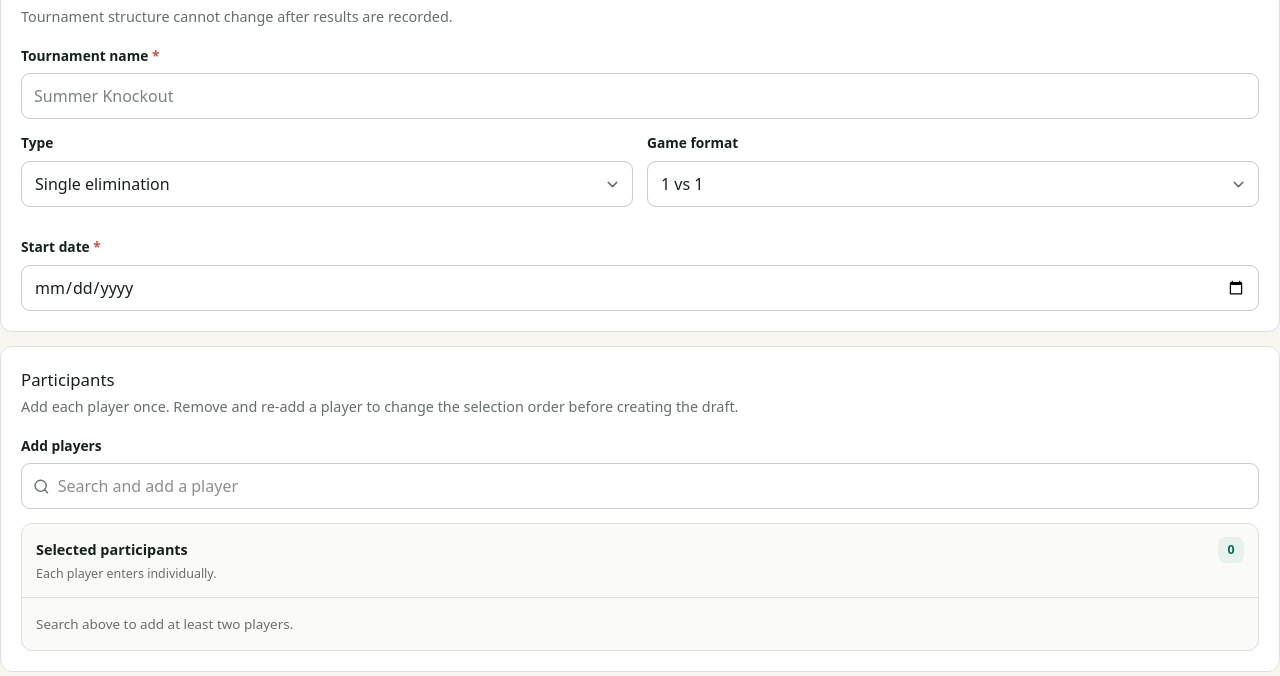
it: TournamentFormatEntries › shows only the rules that apply to the selected tournament type
Expected: the field labelled "Win points" is not shown
Click the dropdown named "Type" at (102, 184), box top-left (21, 161), bottom-right (633, 207)
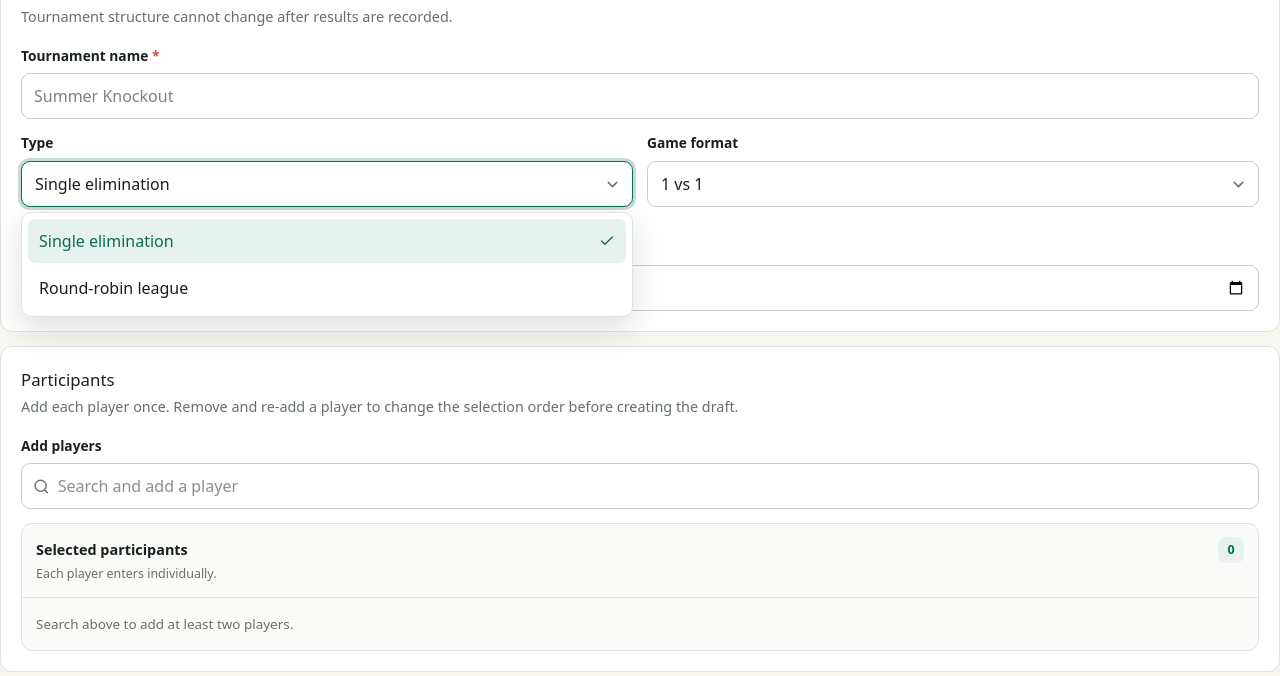
Click the option "Round-robin league" at (114, 288), box top-left (28, 266), bottom-right (626, 310)
(page scrolled)
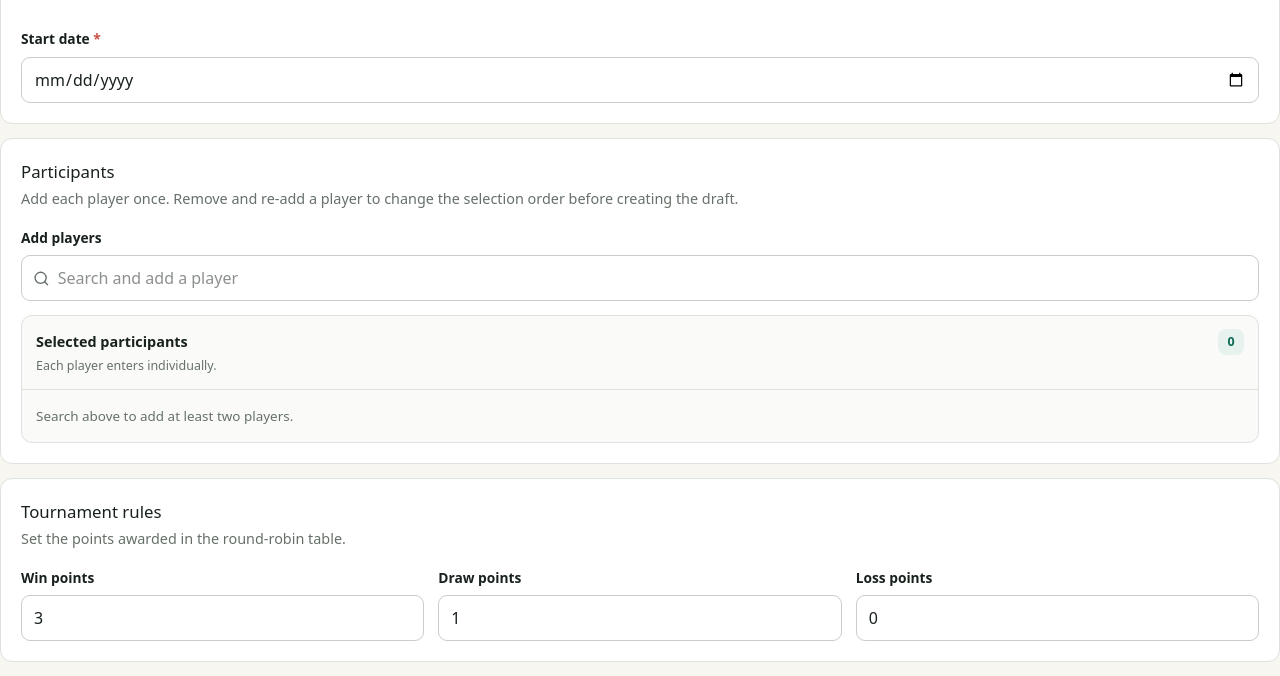
Now the number field labelled "Win points" is shown, box top-left (21, 596), bottom-right (424, 642)
Now the number field labelled "Draw points" is shown, box top-left (438, 596), bottom-right (842, 642)
Now the number field labelled "Loss points" is shown, box top-left (856, 596), bottom-right (1259, 642)
